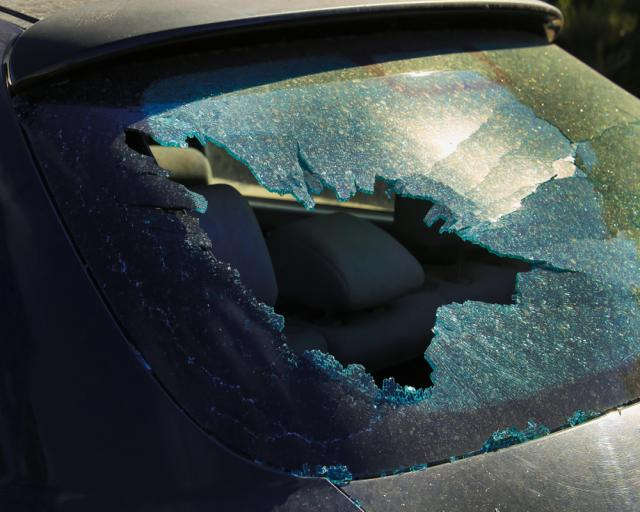glass shatter: (13, 30, 640, 479)
